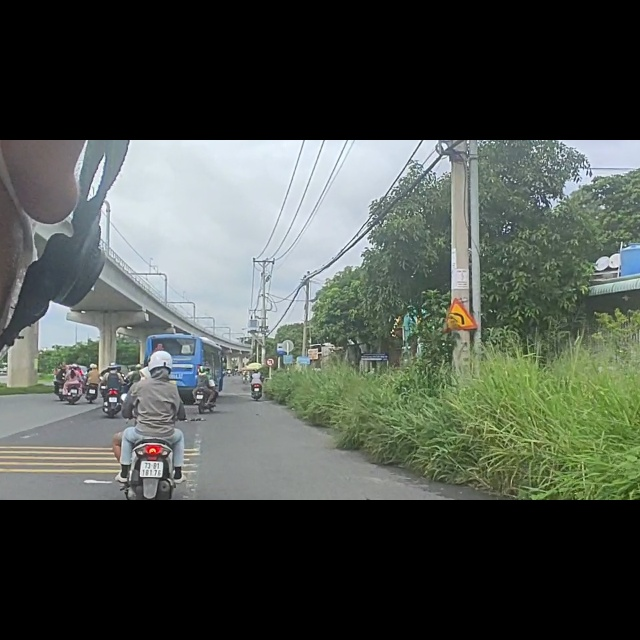bien_cam: (442, 280, 480, 337), (275, 359, 287, 382), (265, 385, 275, 402)
